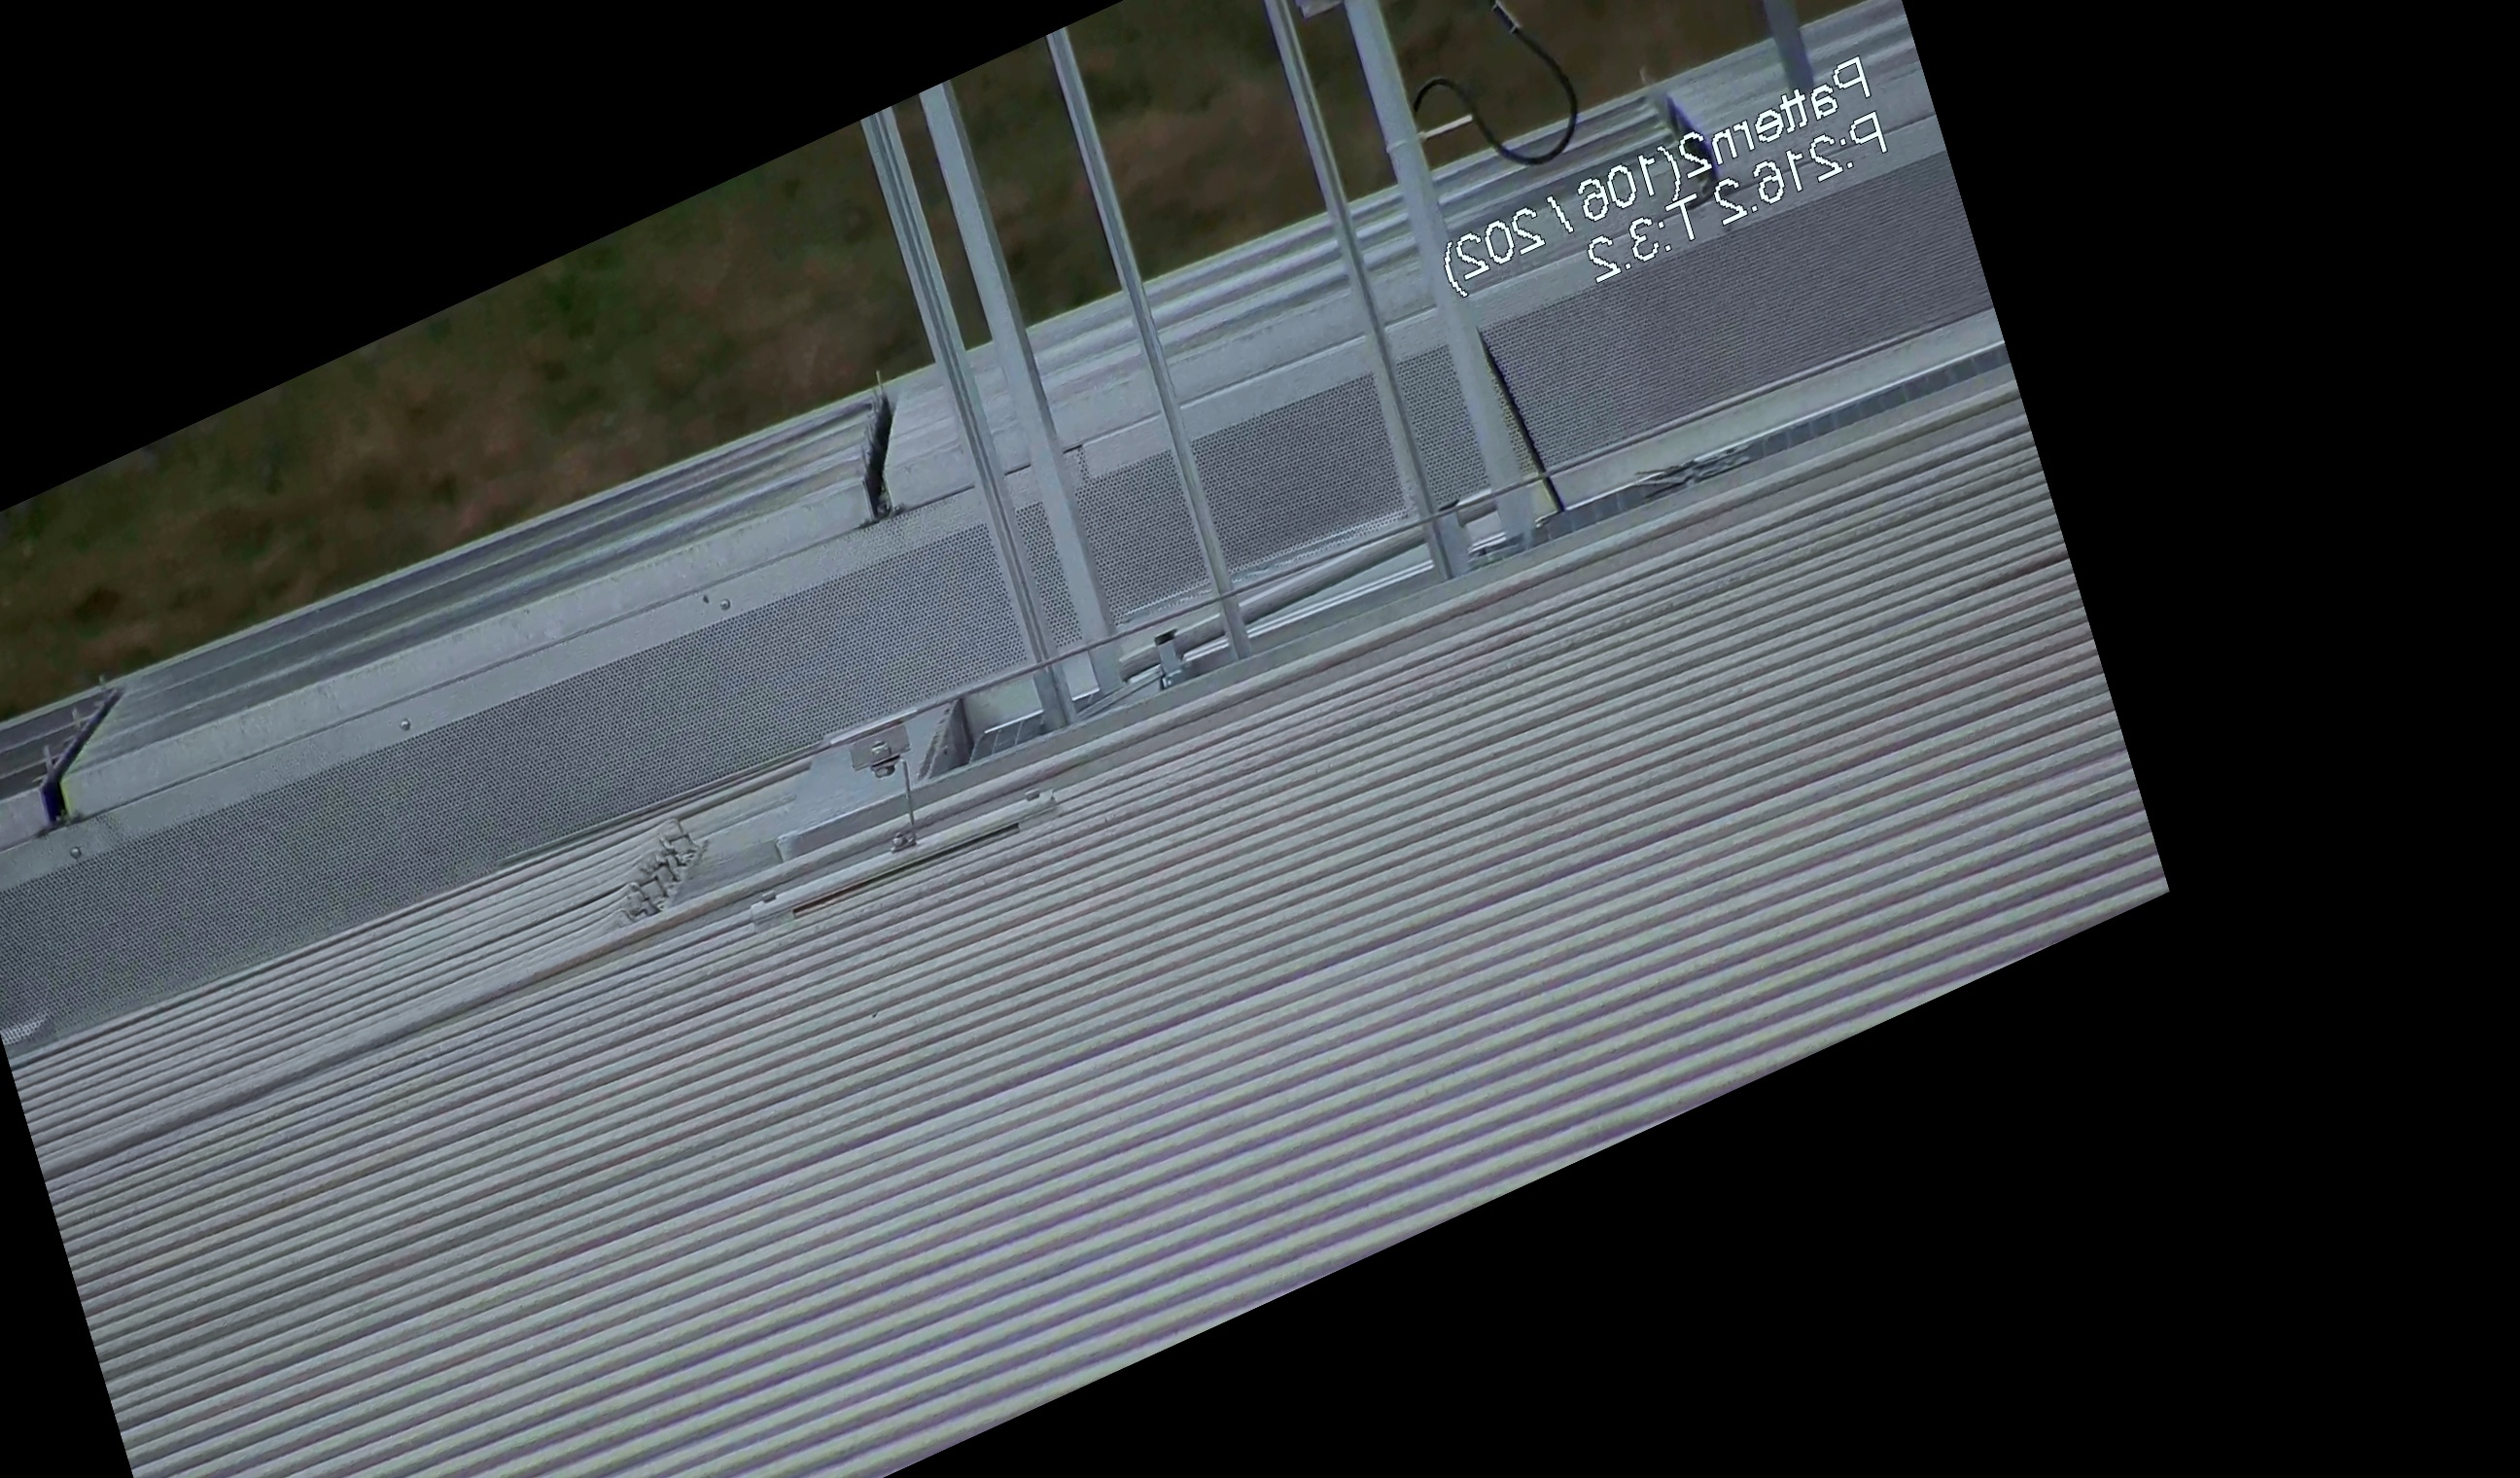Other: (814, 345, 950, 537)
